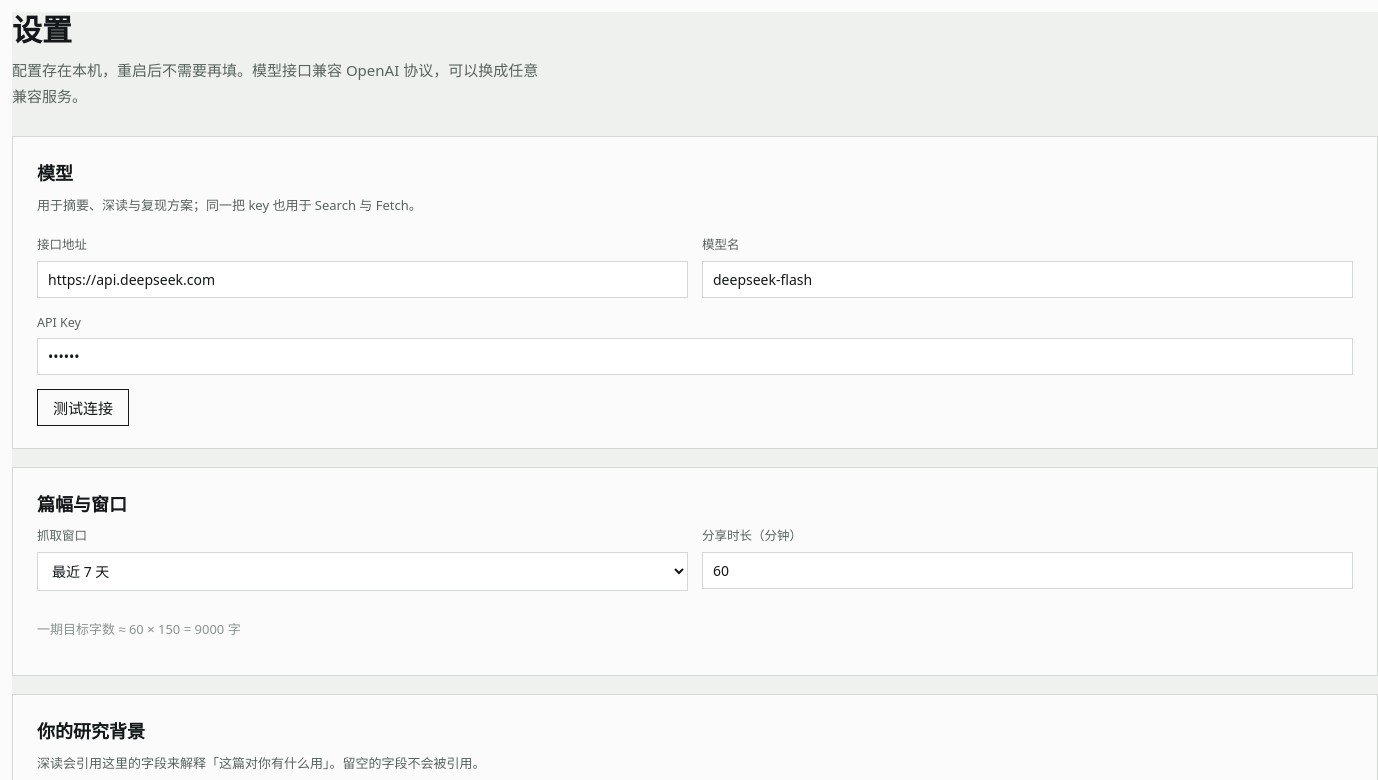
Test: SetupPage › 测试连接显示结果
The image size is (1378, 780).
Click the button "测试连接" at (83, 408), box [37,389,129,426]
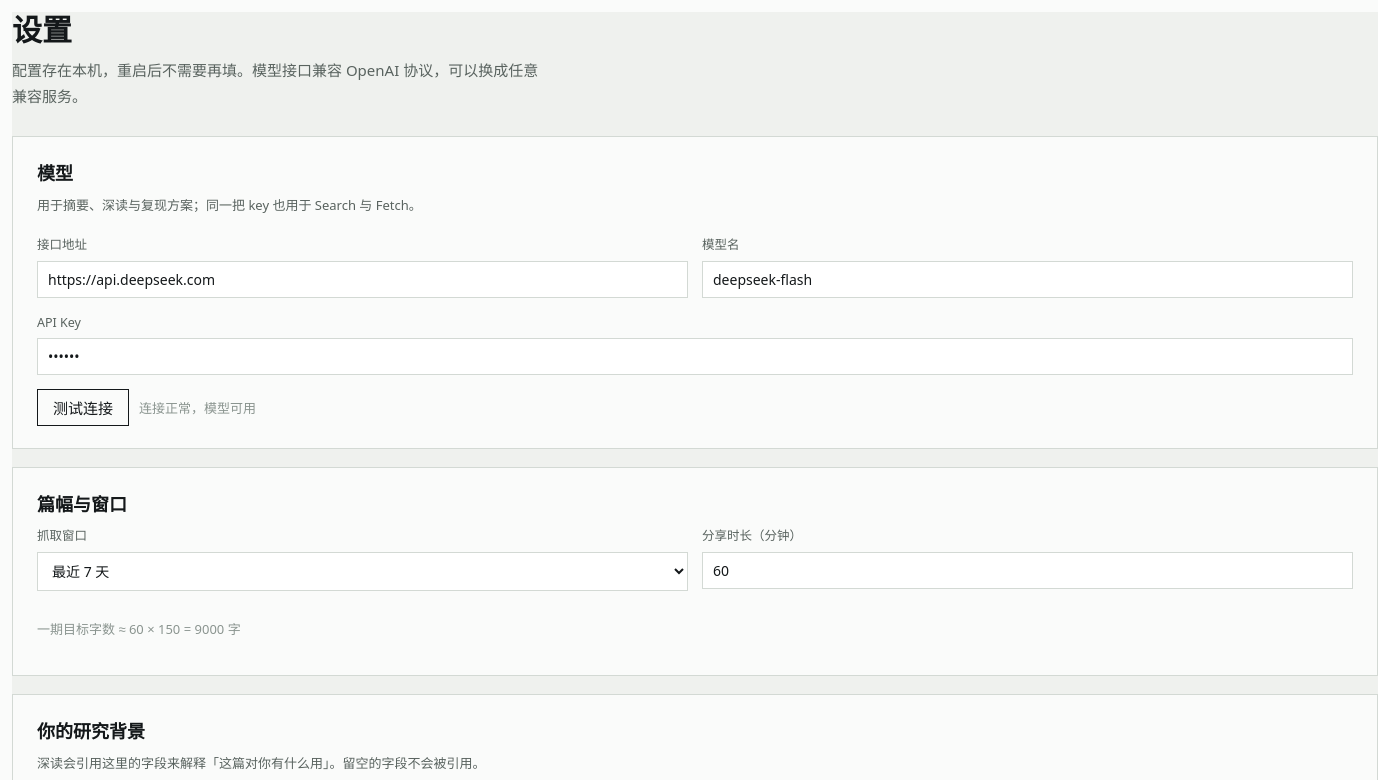
Expected: the text "连接正常，模型可用" is shown, [139,397,256,419]
